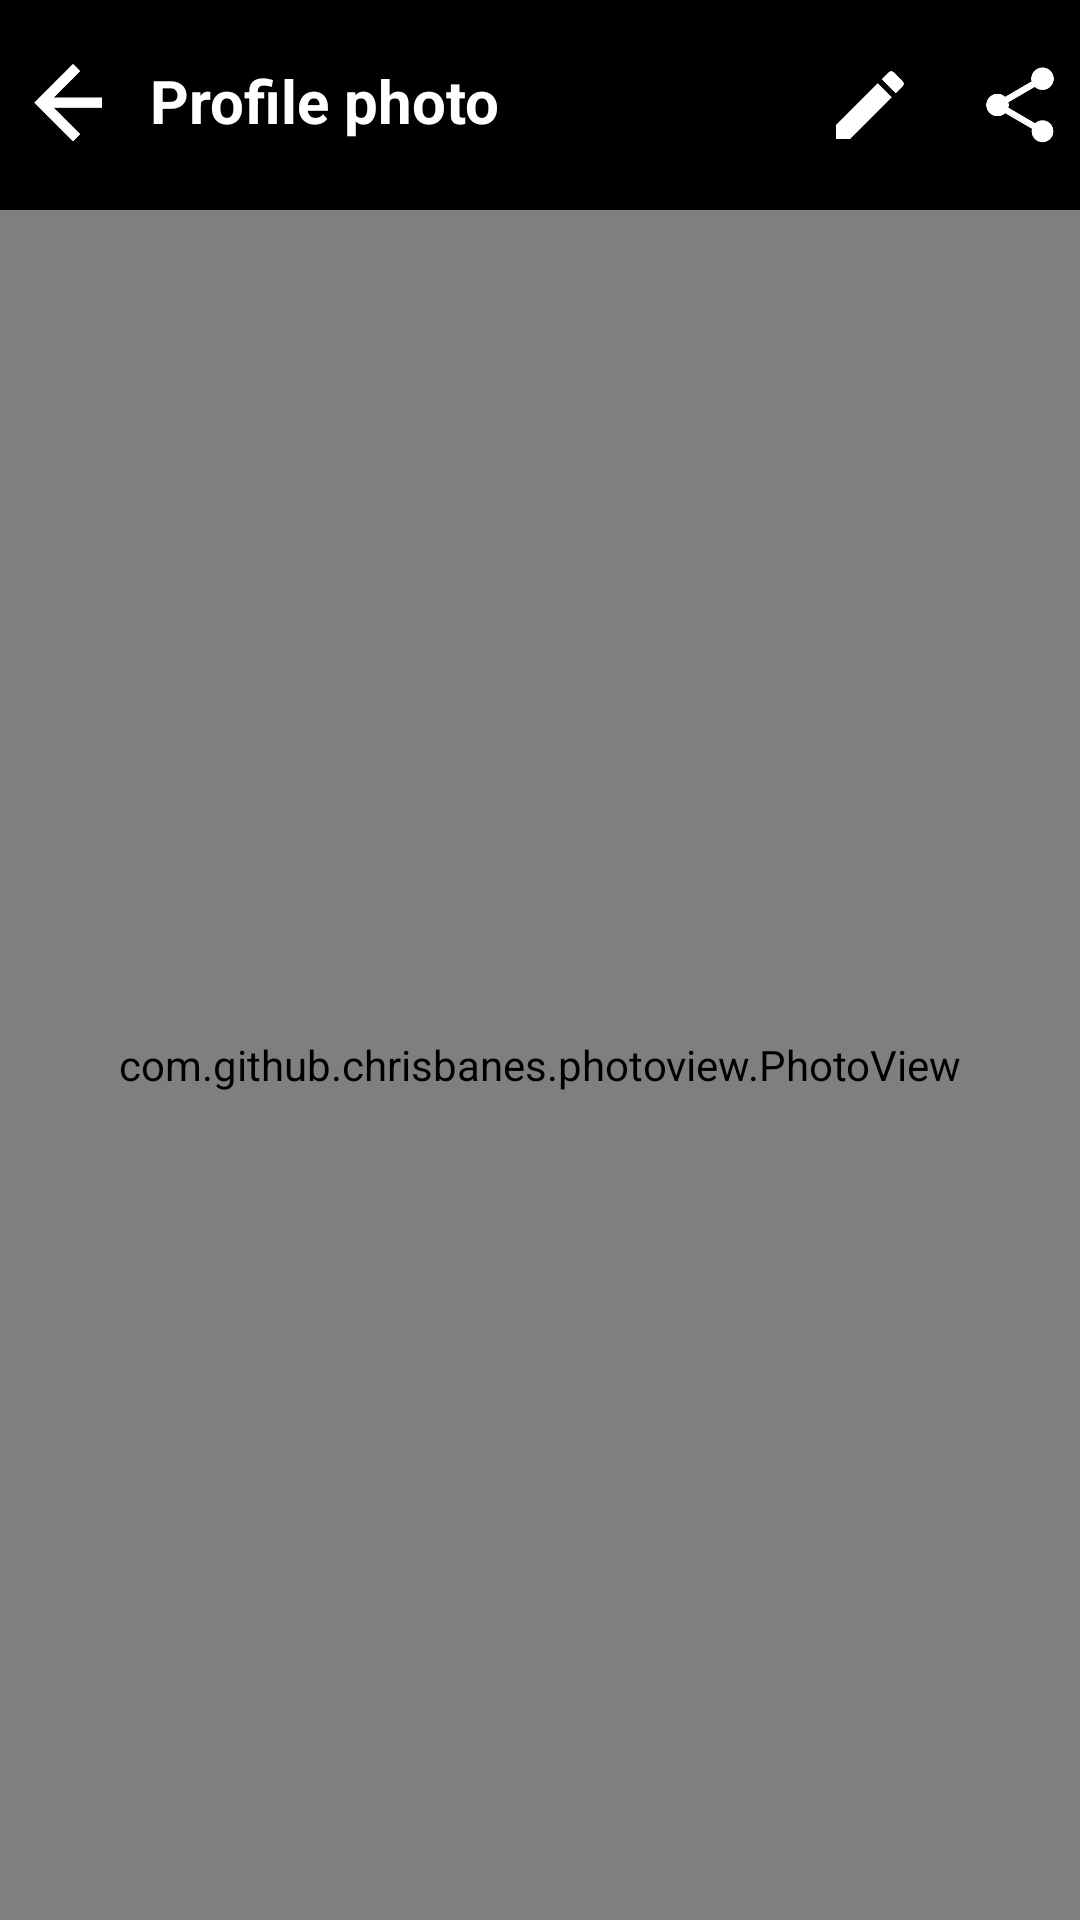

Point at icon controls on the screen. Image size 1080 × 1920, points as [x,y].
back arrow: [68,102]
edit: [870,105]
share: [1020,105]
